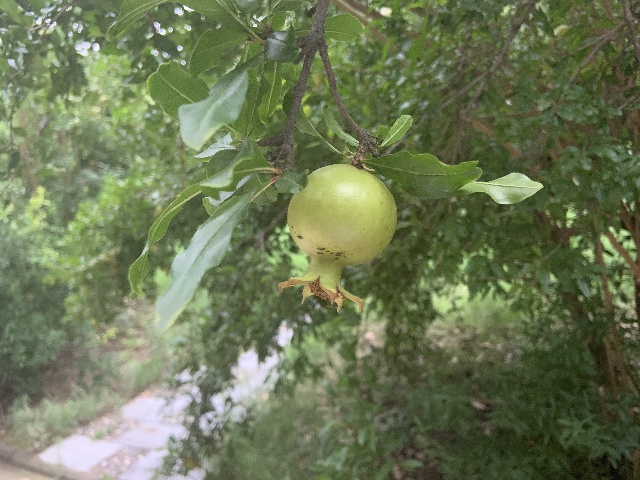mid-growth: (277, 163, 397, 314)
